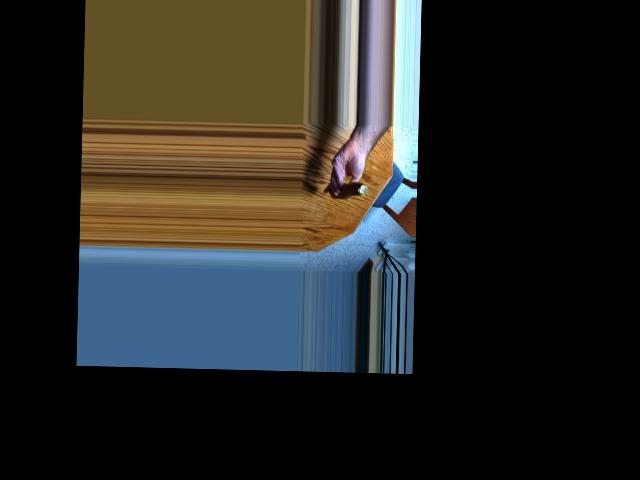sweet_potato: (328, 186, 363, 200)
